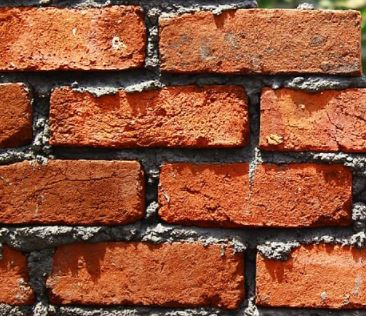brick: (158, 163, 351, 240), (157, 9, 362, 74), (49, 86, 247, 149), (49, 245, 241, 308), (1, 157, 147, 224), (1, 5, 144, 66), (258, 242, 366, 310), (259, 86, 366, 154), (1, 81, 38, 143)
